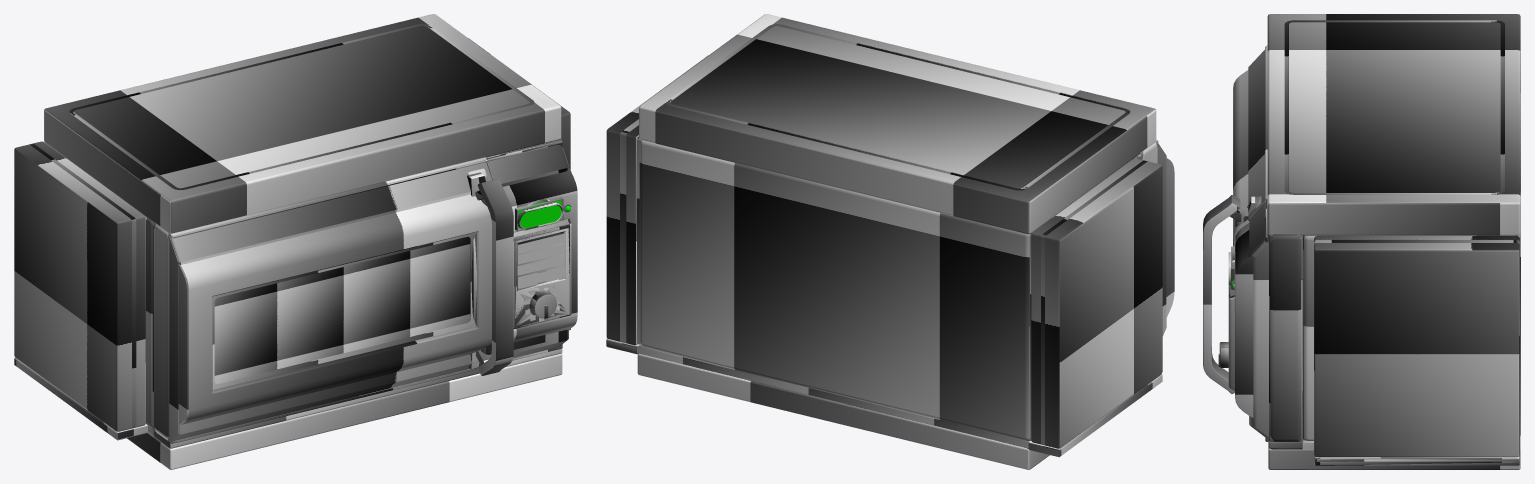
The model's file is microwaves_grp.fbx.
The picture shows the model from 3 angles, left to right: view 1: azimuth 30°, elevation 25°; view 2: azimuth 150°, elevation 25°; view 3: azimuth 270°, elevation 25°; orthographic projection.
Parts seen in each view (by area): view 1: microwave_door_a1, microwave_c4, microwave_door_c1, microwave_door_b1, microwave_c3, microwave_b4, microwave_c7, microwave_c8, microwave_door_c5, microwave_c5, microwave_door_a5, microwave_b5 (+14 smaller); view 2: microwave_a2, microwave_c6, microwave_c5, microwave_c2, microwave_b9, microwave_c4, microwave_b10, microwave_c8, microwave_c7, microwave_c1, microwave_b4, microwave_b5 (+6 smaller); view 3: microwave_b10, microwave_c6, microwave_c4, microwave_c7, microwave_c10, microwave_c8, microwave_c5, microwave_b5, microwave_b2, microwave_b1, microwave_door_b1, microwave_door_c5 (+10 smaller).
Part boxes in pixels (x1,y1,x2,y2): microwave_door_a1: (171, 158, 508, 420); microwave_c4: (47, 15, 545, 199); microwave_door_c1: (154, 160, 507, 442); microwave_door_b1: (171, 157, 513, 424); microwave_c3: (172, 106, 562, 469); microwave_b4: (14, 141, 562, 439); microwave_c7: (49, 14, 541, 196); microwave_c8: (60, 15, 560, 448); microwave_door_c5: (170, 162, 490, 441); microwave_c5: (56, 14, 564, 349); microwave_door_a5: (174, 162, 492, 434); microwave_b5: (14, 107, 570, 439); microwave_a2: (637, 141, 1028, 448); microwave_c6: (649, 16, 1152, 199); microwave_c5: (646, 14, 1153, 198); microwave_c2: (637, 24, 1137, 469); microwave_b9: (636, 133, 1161, 447); microwave_c4: (647, 14, 1148, 198); microwave_b10: (606, 56, 1133, 456); microwave_c8: (645, 14, 1151, 199); microwave_c7: (642, 16, 1148, 195); microwave_c1: (665, 24, 1156, 469); microwave_b4: (611, 119, 1162, 456); microwave_b5: (606, 107, 1162, 450); microwave_b10: (1302, 235, 1520, 465); microwave_c6: (1270, 14, 1517, 201); microwave_c4: (1270, 14, 1517, 201); microwave_c7: (1270, 14, 1517, 200); microwave_c10: (1268, 16, 1518, 469); microwave_c8: (1268, 14, 1517, 441); microwave_c5: (1251, 14, 1517, 247); microwave_b5: (1249, 235, 1519, 464); microwave_b2: (1270, 234, 1494, 465); microwave_b1: (1218, 224, 1516, 460); microwave_door_b1: (1203, 45, 1267, 393); microwave_door_c5: (1248, 50, 1264, 203).
Bounding box in the file's own units: 70.03 × 39.7 × 42.76.
